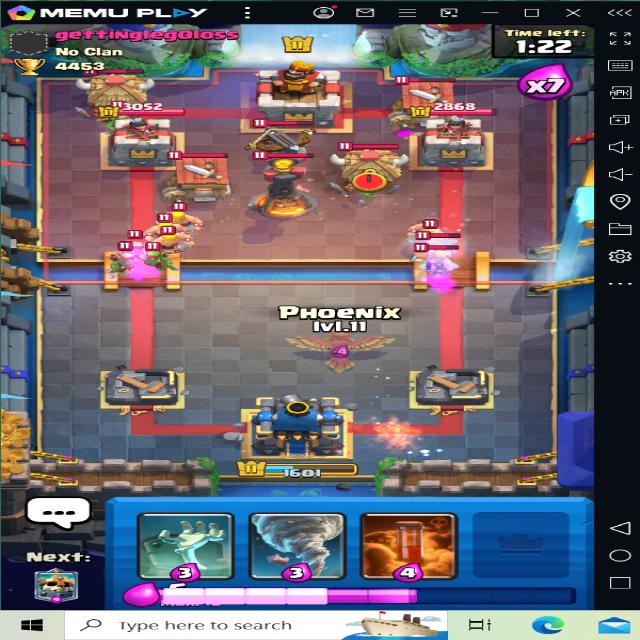Barbarian: (414, 247, 464, 271), (158, 202, 200, 230), (147, 228, 194, 252), (145, 210, 185, 238), (408, 221, 452, 243), (412, 232, 465, 250)
Barbarianhut: (162, 148, 235, 199), (390, 74, 462, 124)
Goblinhut: (330, 140, 412, 196), (77, 64, 150, 113)
Infernotower: (253, 149, 319, 215)
Speargoblin: (101, 102, 139, 128), (106, 250, 135, 279), (147, 239, 176, 266), (118, 230, 150, 253)
Xbow: (234, 112, 322, 168)
